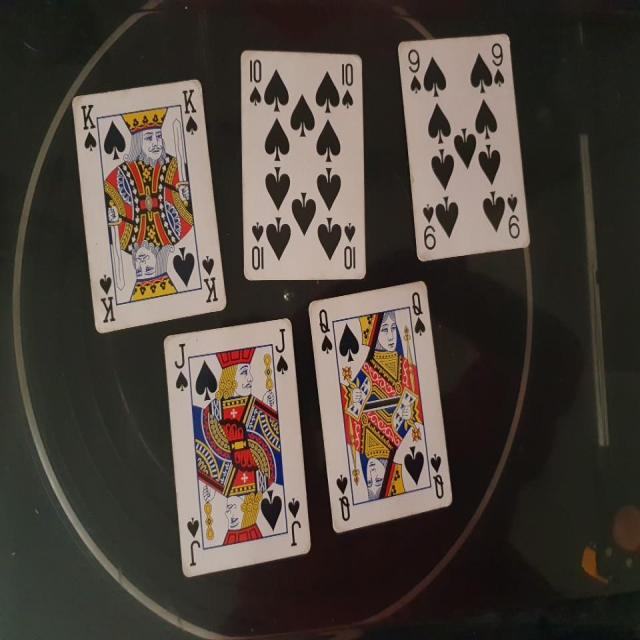10 Spades: (232, 42, 369, 285)
9 Spades: (395, 24, 534, 263)
J Spades: (161, 311, 320, 584)
K Spades: (68, 74, 232, 338)
Q Spades: (304, 273, 456, 536)
